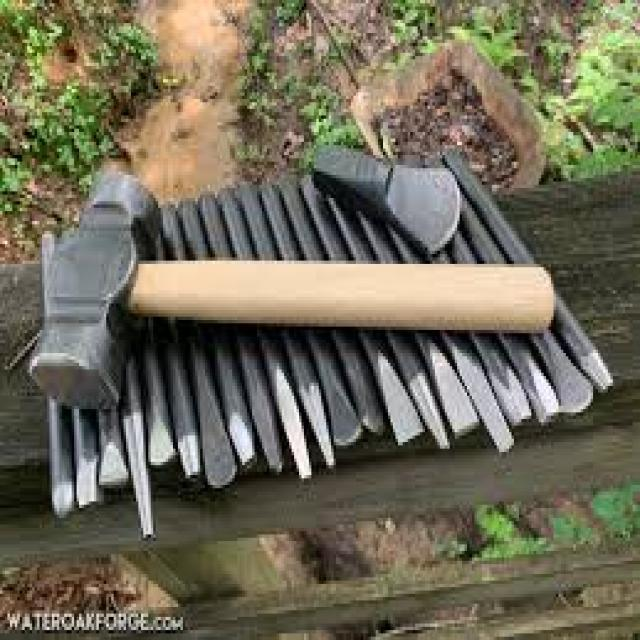hammer: (22, 165, 574, 412)
